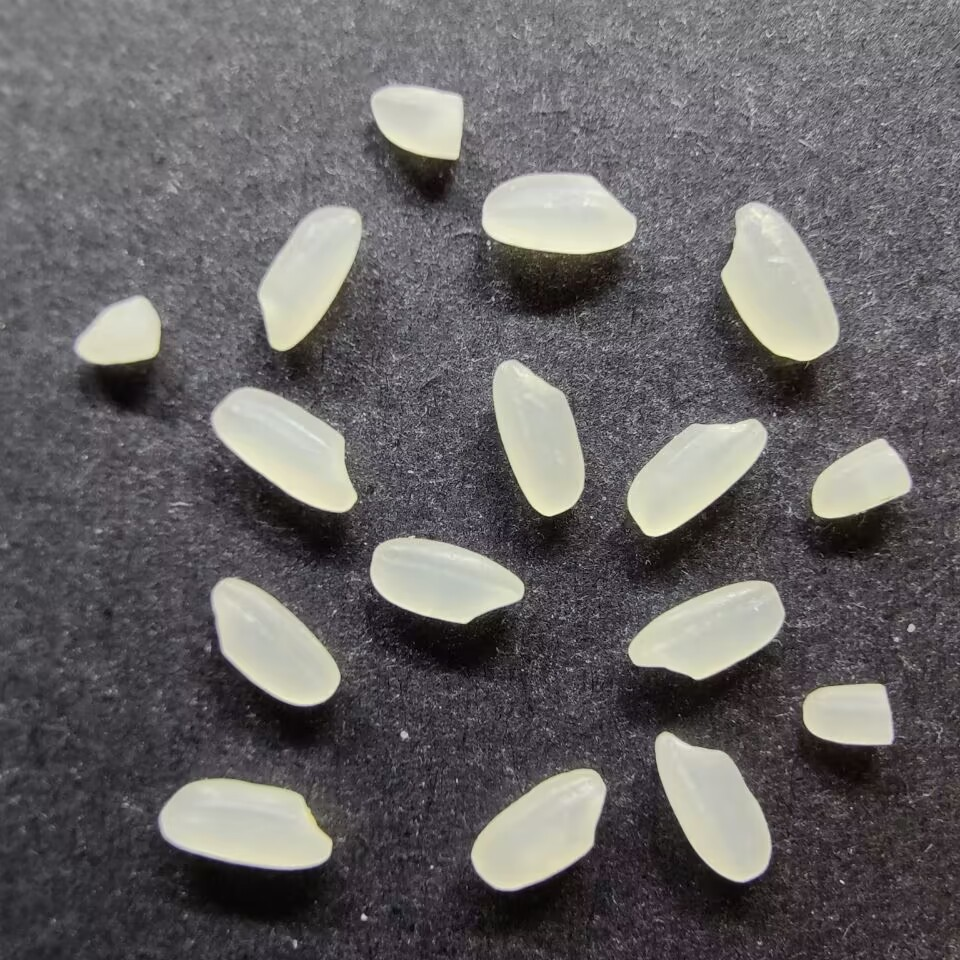broken: (808, 436, 913, 521), (365, 83, 466, 162), (799, 682, 898, 749), (71, 294, 162, 366)
rice: (717, 200, 843, 363), (208, 384, 359, 515), (654, 729, 775, 886), (623, 414, 770, 538), (207, 574, 342, 709), (469, 767, 608, 893), (155, 776, 334, 872), (253, 202, 363, 353), (627, 579, 786, 681), (489, 357, 586, 518), (368, 536, 527, 624), (479, 171, 638, 255)
